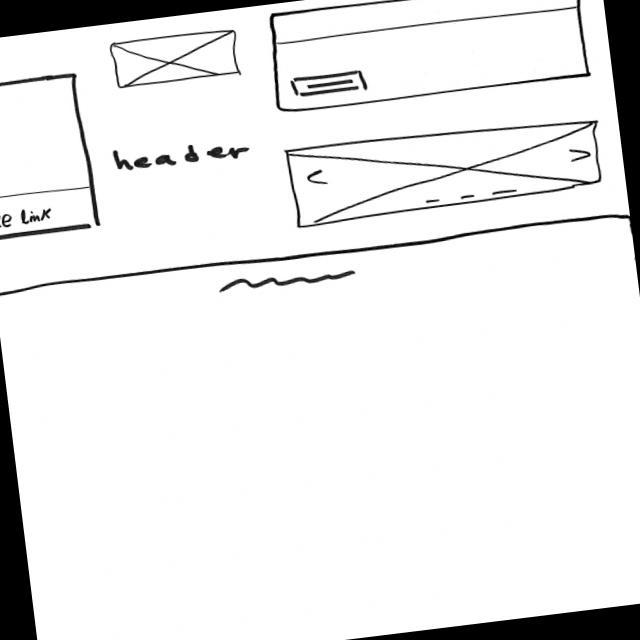container: (266, 1, 592, 116), (1, 71, 102, 241)
icon-button: (290, 68, 371, 102)
image: (284, 112, 606, 229), (107, 26, 243, 92)
label: (107, 135, 254, 177), (1, 201, 55, 230)
text: (221, 263, 359, 297)
